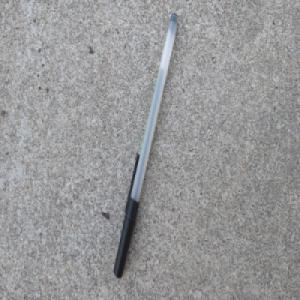Pen: (112, 10, 180, 280)
